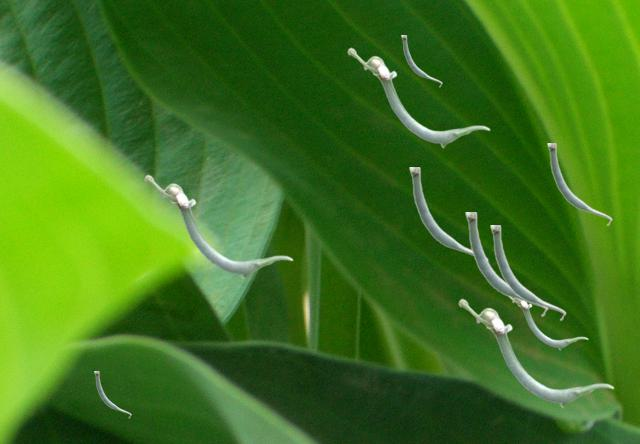french_bean: (458, 298, 613, 407), (144, 174, 292, 278), (347, 47, 489, 147), (465, 212, 547, 316), (490, 225, 565, 320), (409, 167, 487, 257), (547, 143, 611, 225), (509, 298, 587, 349), (401, 35, 441, 86), (94, 371, 130, 417)
